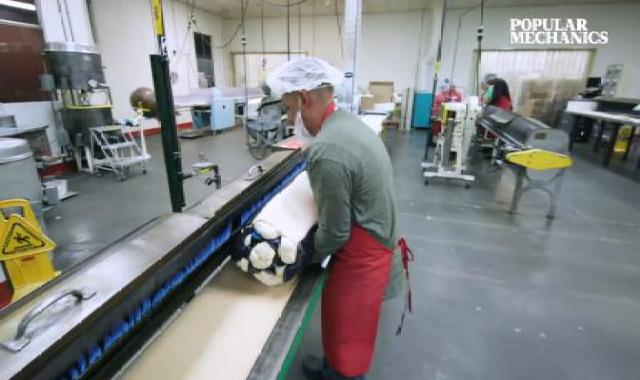hairnet: (253, 56, 343, 101), (485, 71, 503, 80)
